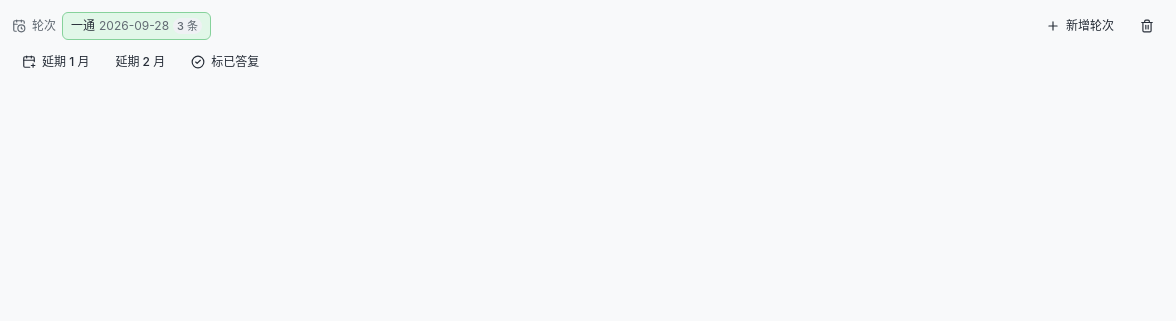
it: R115-批29：新增轮次类型自动默认 › 用户手选「复审」后仍然生效（override 不被自动默认吞掉）
Click the button with test id "oa-round-add" at [1080, 26], box left=1036, top=12, right=1124, bottom=40
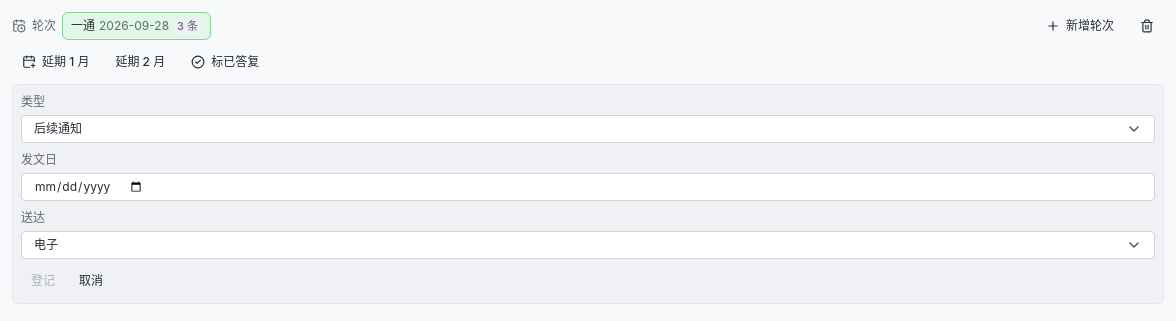
Press the mouse on the dropdown with test id "oa-round-kind" at [58, 128], box left=21, top=115, right=1155, bottom=143
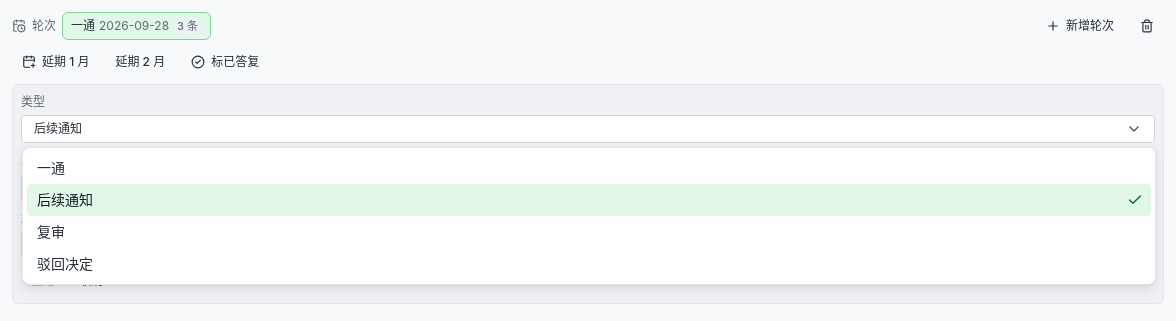
Click the option "复审" at [51, 232], box left=37, top=223, right=65, bottom=240
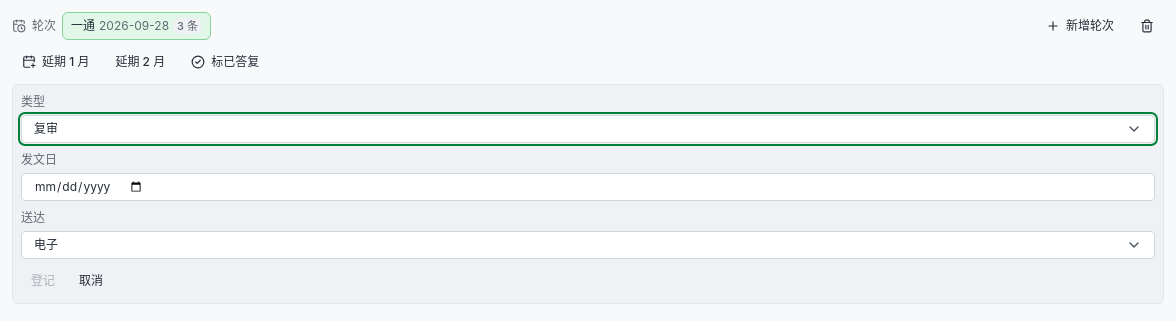
expect the dropdown with test id "oa-round-kind" reads "复审": met, box left=21, top=115, right=1155, bottom=143
